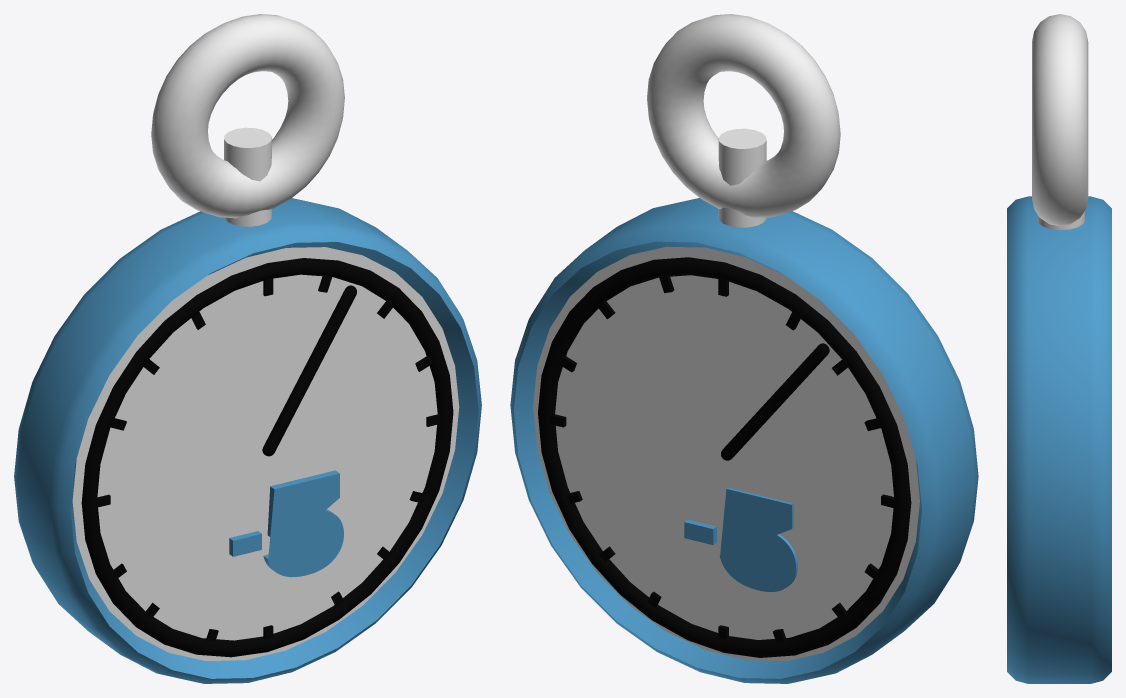
Rendered from stopwatch.fbx.
3 views of the same model, side by side, from view 1: azimuth 30°, elevation 25°; view 2: azimuth 150°, elevation 25°; view 3: azimuth 270°, elevation 25° (orthographic).
Visible parts, largest first — view 1: stopwatch; view 2: stopwatch; view 3: stopwatch.
Part boxes in pixels (<box>): stopwatch: <box>14,14,481,683</box>; stopwatch: <box>510,14,978,683</box>; stopwatch: <box>1007,14,1111,683</box>.
Bounding box in the file's own units: 120 × 173 × 25.83.
